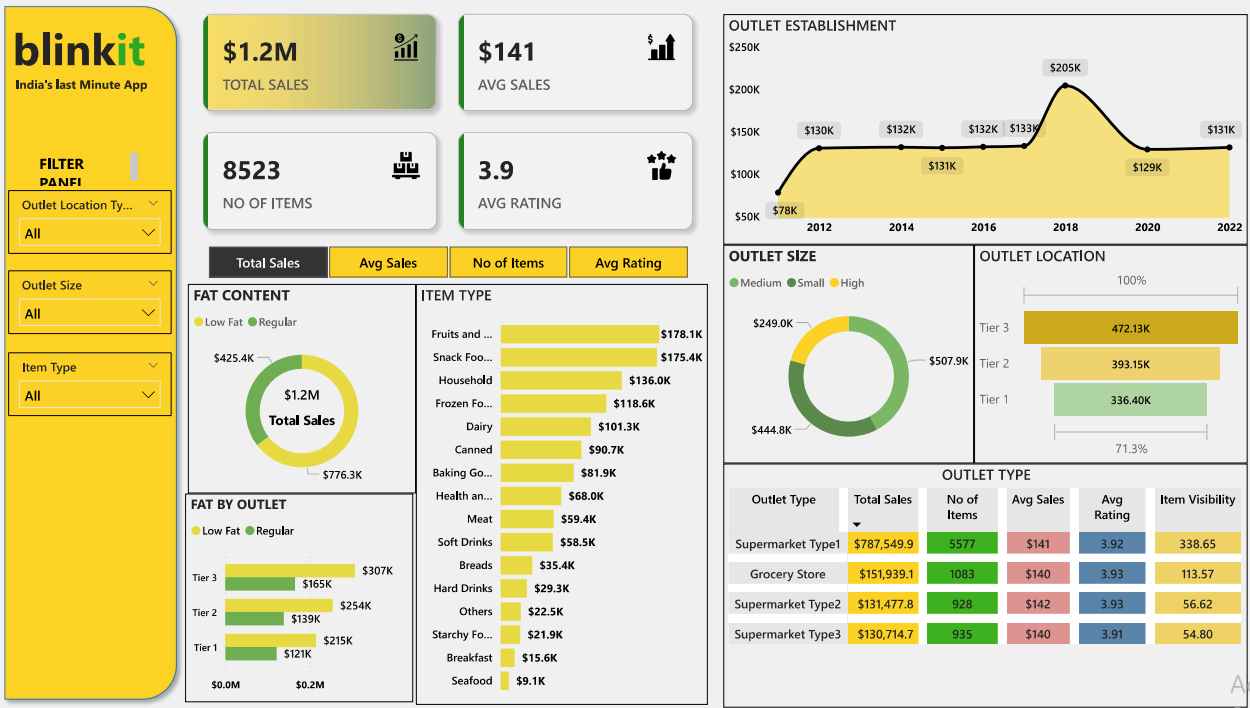

Layout of this report page (visuals, bound fields, positions):
{"tool":"powerbi","page":{"name":"Page 1","canvas":[1280,720],"ordinal":0},"visuals":[{"type":"shape","box":[5.6,12.6,200.5,695.5],"z":0},{"type":"textbox","box":[25.7,37.9,173.6,77],"z":1000},{"type":"textbox","box":[25.7,96.6,162.6,35.5],"z":2000},{"type":"cardVisual","fields":{"Data":["BlinkIT Grocery Data.Total Sales","BlinkIT Grocery Data.Avg Sales","BlinkIT Grocery Data.No.of.Items","BlinkIT Grocery Data.Avg Rating"]},"box":[199.1,12.6,560.9,217.4],"z":3000},{"type":"shape","box":[199.1,228.6,560.9,479.6],"z":4000},{"type":"donutChart","title":"Fat Content","fields":{"Y":["BlinkIT Grocery Data.No.of.Items"],"Category":["BlinkIT Grocery Data.Item Fat Content"]},"box":[216,291.7,256.6,228.6],"z":5000},{"type":"slicer","title":"Fat Content","fields":{"Values":["Metrics.Metrics"]},"box":[237,249.6,469.8,42.1],"z":6000},{"type":"cardVisual","fields":{"Data":["BlinkIT Grocery Data.No.of.Items"]},"box":[290.3,396.8,109.4,71.5],"z":7000},{"type":"clusteredBarChart","title":"Fat By Outlet","fields":{"Y":["BlinkIT Grocery Data.No.of.Items"],"Category":["BlinkIT Grocery Data.Outlet Location Type"],"Series":["BlinkIT Grocery Data.Item Fat Content"]},"box":[215.8,503,247.9,196.7],"z":8000},{"type":"shape","box":[216,483.8,267.8,36.5],"z":9000},{"type":"shape","box":[472.6,291.7,40.7,398.2],"z":10000},{"type":"barChart","title":"Item Type","fields":{"Y":["BlinkIT Grocery Data.No.of.Items"],"Category":["BlinkIT Grocery Data.Item Type"]},"box":[493.5,292,247.9,398.1],"z":11000},{"type":"shape","box":[760,19.6,520.2,688.5],"z":12000},{"type":"lineChart","title":"Outlet Establishment","fields":{"Y":["BlinkIT Grocery Data.Total Sales"],"Category":["BlinkIT Grocery Data.Outlet Establishment Year"]},"box":[778.3,37.9,481,192.1],"z":13000},{"type":"shape","box":[778.3,228.6,481,36.5],"z":14000},{"type":"donutChart","title":"Outlet Size","fields":{"Y":["BlinkIT Grocery Data.Total Sales"],"Category":["BlinkIT Grocery Data.Outlet Size"]},"box":[778.3,255.2,241.2,213.1],"z":15000},{"type":"shape","box":[1000.1,269.4,40.5,176.4],"z":16000},{"type":"funnel","title":"Outlet Location","fields":{"Y":["Sum(BlinkIT Grocery Data.Sales)"],"Category":["BlinkIT Grocery Data.Outlet Location Type"]},"box":[1039.4,246.7,219.3,221.7],"z":17000},{"type":"shape","box":[789.1,447,481.6,37],"z":18000},{"type":"pivotTable","title":"Outlet Type","fields":{"Rows":["BlinkIT Grocery Data.Outlet Type"],"Values":["BlinkIT Grocery Data.Total Sales","BlinkIT Grocery Data.No.of.Items","BlinkIT Grocery Data.Avg Sales","BlinkIT Grocery Data.Avg Rating"]},"box":[778.4,484,492.3,206.2],"z":19000},{"type":"slicer","fields":{"Values":["BlinkIT Grocery Data.Outlet Location Type"]},"box":[26.2,219.3,162.1,60.8],"z":20000},{"type":"slicer","fields":{"Values":["BlinkIT Grocery Data.Outlet Size"]},"box":[25,296.8,162.1,60.8],"z":21000},{"type":"slicer","fields":{"Values":["BlinkIT Grocery Data.Outlet Type"]},"box":[25,375.5,162.1,60.8],"z":22000}]}

Visuals, with their boxes in screenshot pixels (x1, y1, x2, y2), scaled from the page's 1280x720 canvas onto the 1250x708 screenshot:
shape: 5:12:201:696
textbox: 25:37:195:113
textbox: 25:95:184:130
cardVisual - BlinkIT Grocery Data.Total Sales x BlinkIT Grocery Data.Avg Sales: 194:12:742:226
shape: 194:225:742:696
"Fat Content" donutChart: 211:287:462:512
"Fat Content" slicer: 231:245:690:287
cardVisual - BlinkIT Grocery Data.No.of.Items: 283:390:390:460
"Fat By Outlet" clusteredBarChart: 211:495:453:688
shape: 211:476:472:512
shape: 462:287:501:678
"Item Type" barChart: 482:287:724:679
shape: 742:19:1249:696
"Outlet Establishment" lineChart: 760:37:1230:226
shape: 760:225:1230:261
"Outlet Size" donutChart: 760:251:996:460
shape: 977:265:1016:438
"Outlet Location" funnel: 1015:243:1229:461
shape: 771:440:1241:476
"Outlet Type" pivotTable: 760:476:1241:679
slicer - BlinkIT Grocery Data.Outlet Location Type: 26:216:184:275
slicer - BlinkIT Grocery Data.Outlet Size: 24:292:183:352
slicer - BlinkIT Grocery Data.Outlet Type: 24:369:183:429
